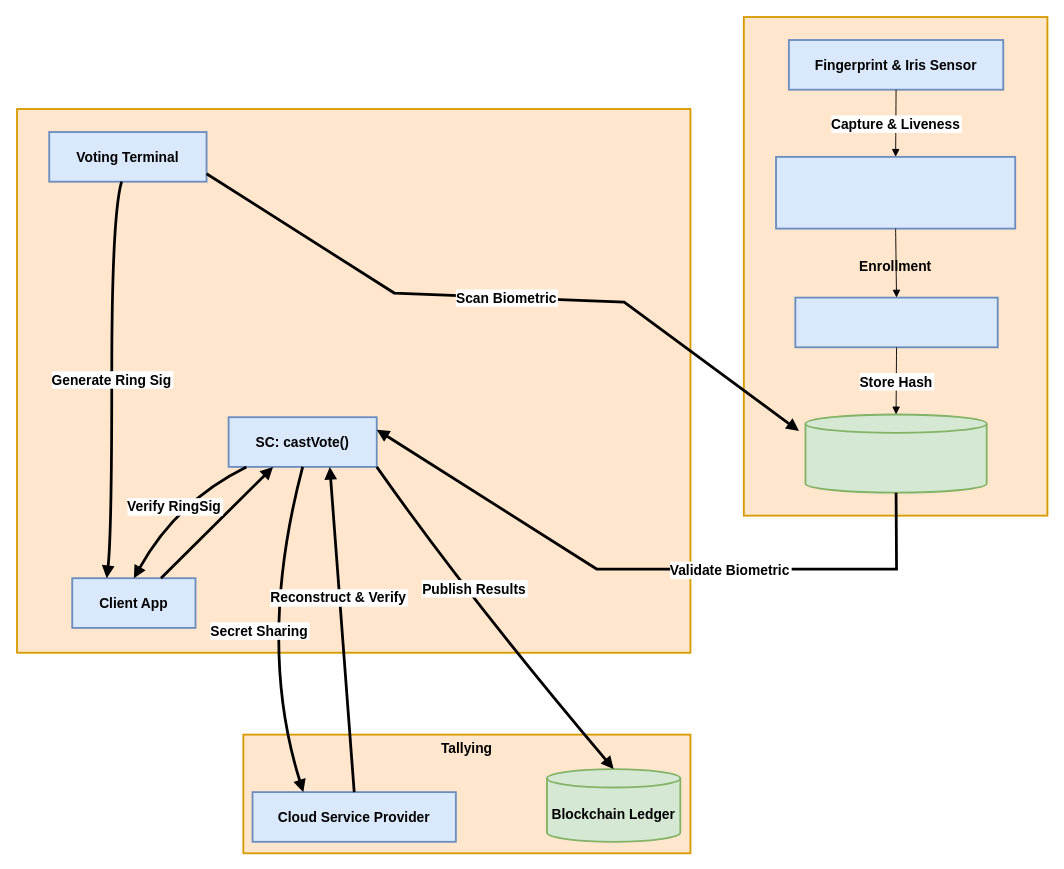
This 1064x869 diagram has some shape labels left out. Each missing label, with the box of its shape:
DCA: Verify & Register: (794, 296, 998, 348)
Feature Extraction & Hashing: (775, 155, 1016, 229)
On‑Chain Biometric Store: (804, 413, 987, 493)
Vote Casting: (16, 108, 691, 653)
